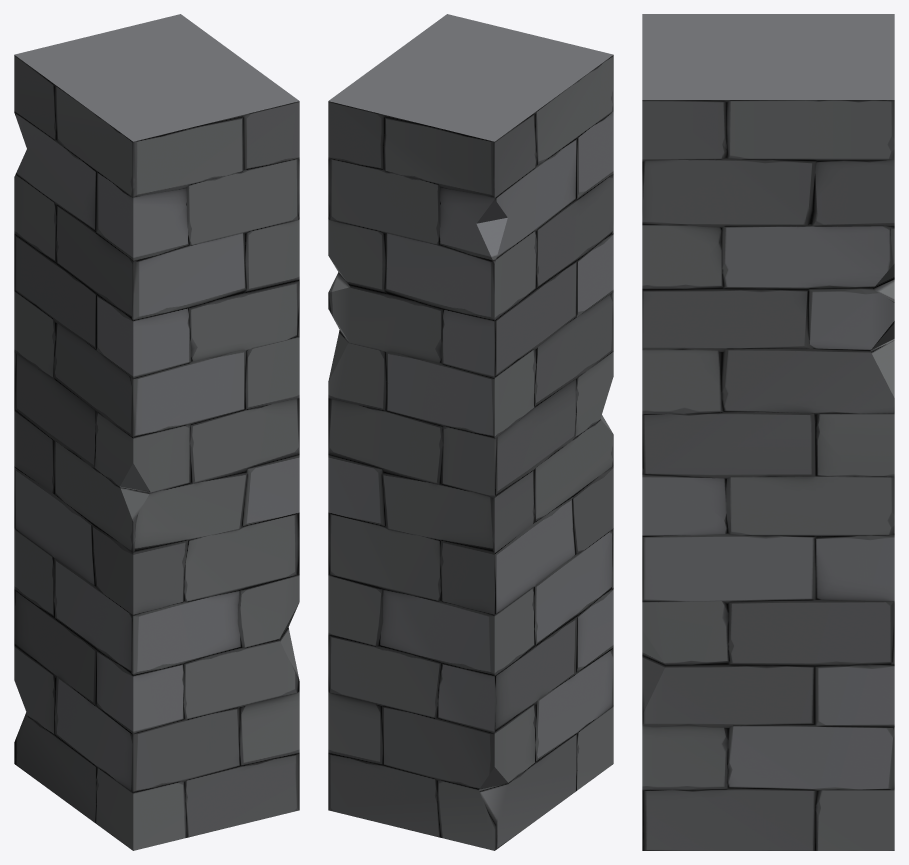
File: SM_Bld_Buttress_Pillar_01.fbx
3 renders of one model, left to right at view 1: azimuth 30°, elevation 25°; view 2: azimuth 150°, elevation 25°; view 3: azimuth 270°, elevation 25°, orthographic. The views are drawn at different scales.
Parts seen in each view (by area): view 1: SM_Bld_Buttress_Pillar_01; view 2: SM_Bld_Buttress_Pillar_01; view 3: SM_Bld_Buttress_Pillar_01.
Boxes of the visible parts, <box> form: SM_Bld_Buttress_Pillar_01: <box>14,14,299,850</box>; SM_Bld_Buttress_Pillar_01: <box>328,14,613,850</box>; SM_Bld_Buttress_Pillar_01: <box>642,14,894,850</box>.
Size of the model in its own units: 73.75 by 300 by 91.25.
